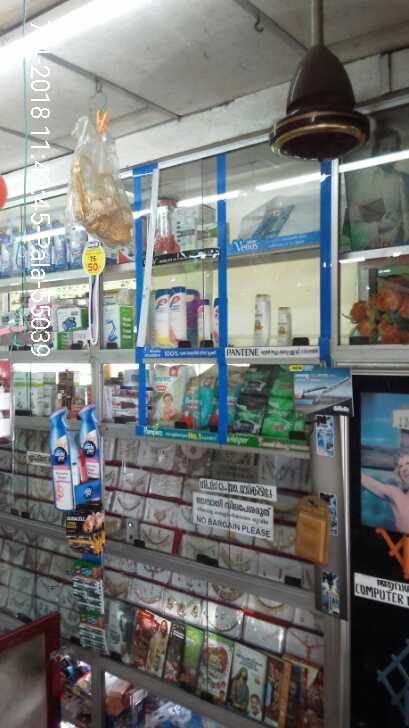venus: (257, 206, 294, 242)
